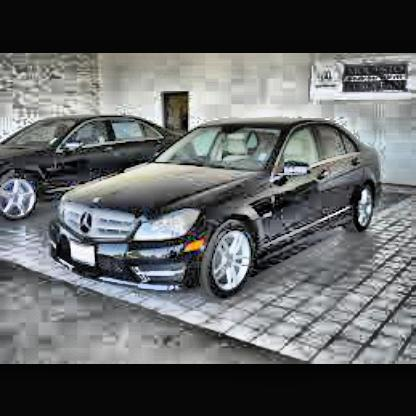Mercedes-Benz C-Class Sedan 2012: (52, 119, 384, 298)
